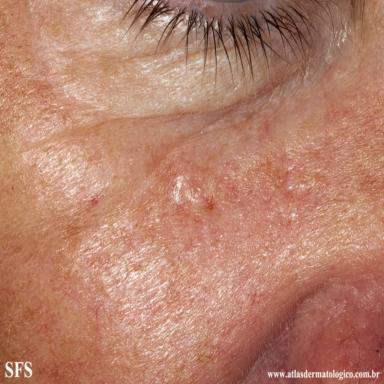basal-cell-carcinoma: (172, 175, 201, 204)
